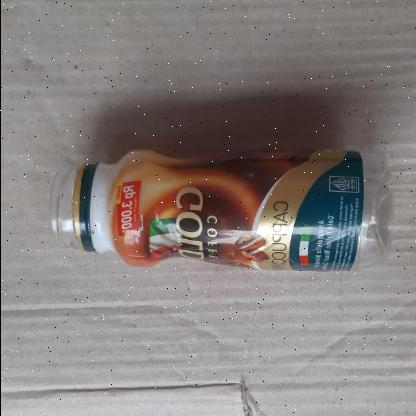Plastic Bottle: (49, 148, 392, 276)
